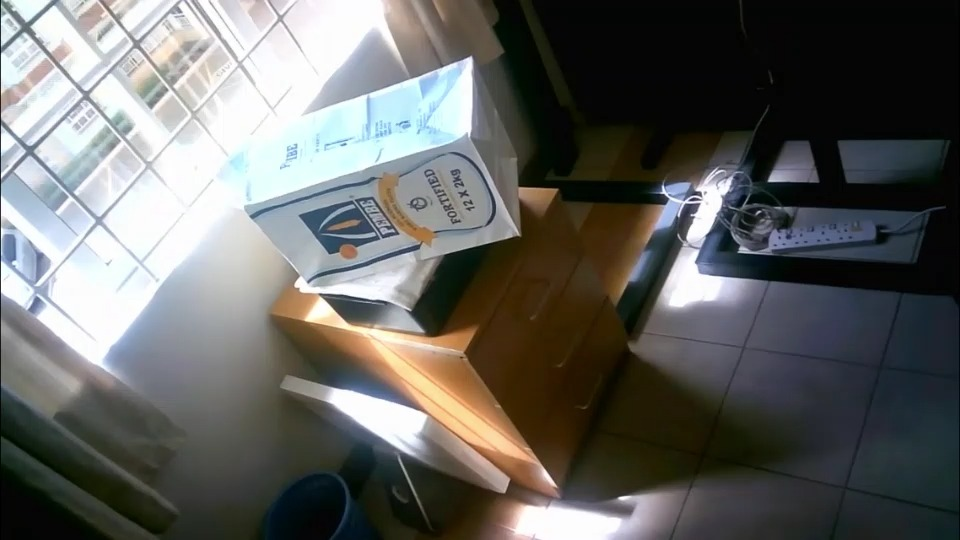wheat_flour_blue_label: (241, 55, 520, 282)
